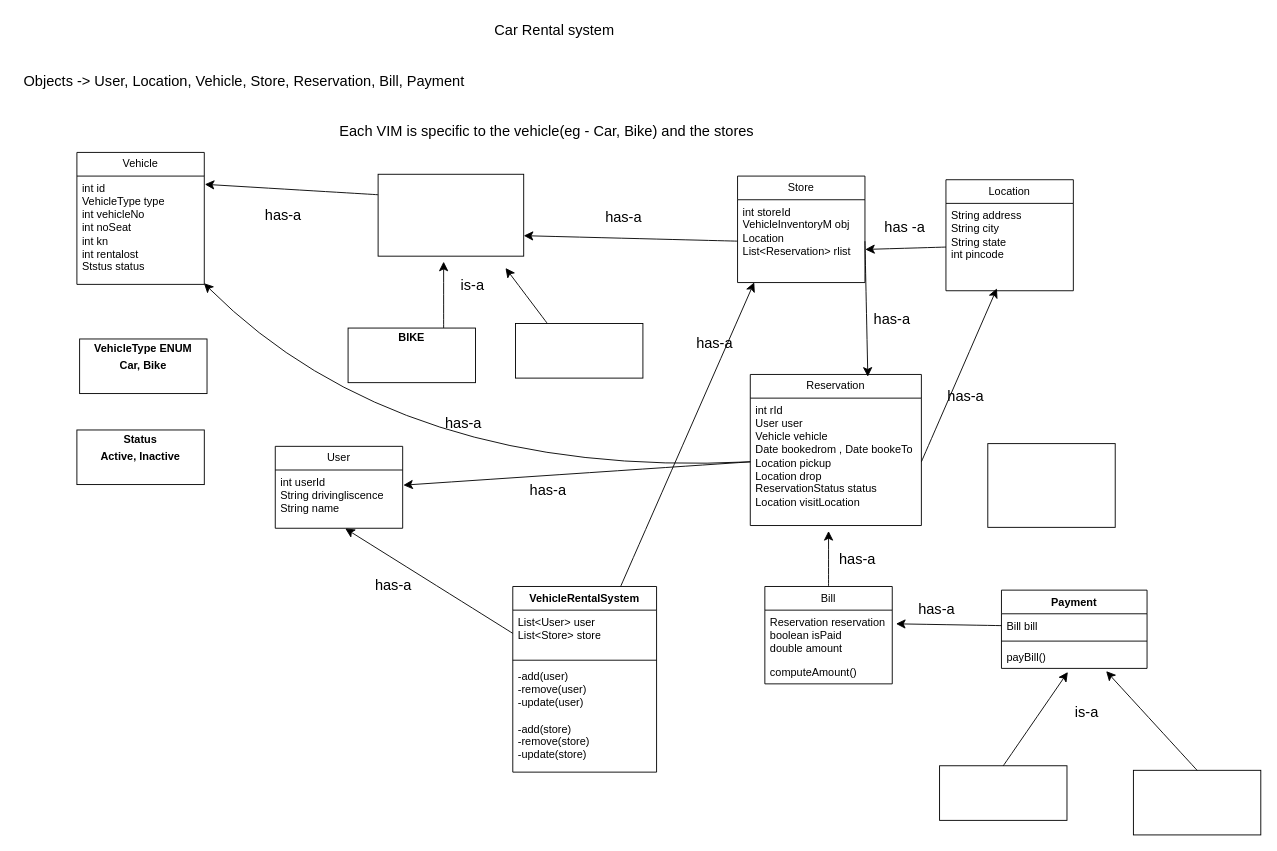
The diagram is 1277 pixels wide and 851 high, and some of its shapes have lost their labels. Each missing label, with the centre of its shape:
"CAR" belongs at (x=579, y=350).
"CashPayment" belongs at (x=1003, y=792).
"OnlinePayment" belongs at (x=1196, y=802).
"ReservationStatus ENUM InProgrss, Scheduled, Completed, Cancelled" belongs at (x=1051, y=485).
"VehicleInventoryManagement List<vehiclle> vehicles //CRUD op" belongs at (x=450, y=214).
